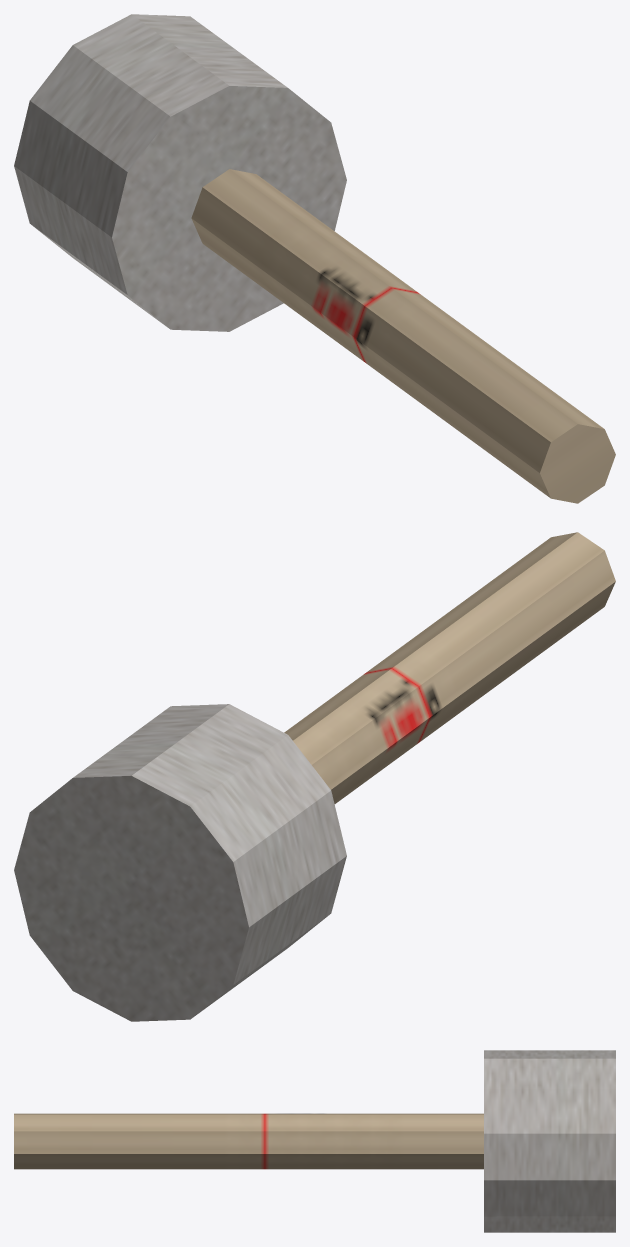
The model's file is Beater.fbx.
3 views of the same model, one above another, from view 1: azimuth 30°, elevation 25°; view 2: azimuth 150°, elevation 25°; view 3: azimuth 270°, elevation 25° (orthographic). The views are drawn at different scales.
Parts seen in each view (by area): view 1: Cylinder.002; view 2: Cylinder.002; view 3: Cylinder.002.
Part boxes in pixels (left/top/right/bottom): Cylinder.002: left=14, top=14, right=615, bottom=503; Cylinder.002: left=14, top=532, right=615, bottom=1021; Cylinder.002: left=14, top=1050, right=615, bottom=1232.
Bounding box in the file's own units: 2.99 × 2.99 × 9.83.
1 material, 1 textured.
